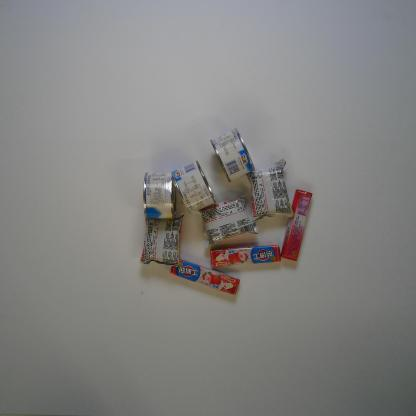Candy: (169, 257, 242, 297), (279, 187, 313, 262), (209, 242, 282, 269)
Canned Food: (208, 126, 256, 182), (170, 160, 218, 215), (142, 171, 176, 221)
Dessert: (245, 157, 296, 222), (196, 193, 258, 243), (138, 211, 186, 269)
